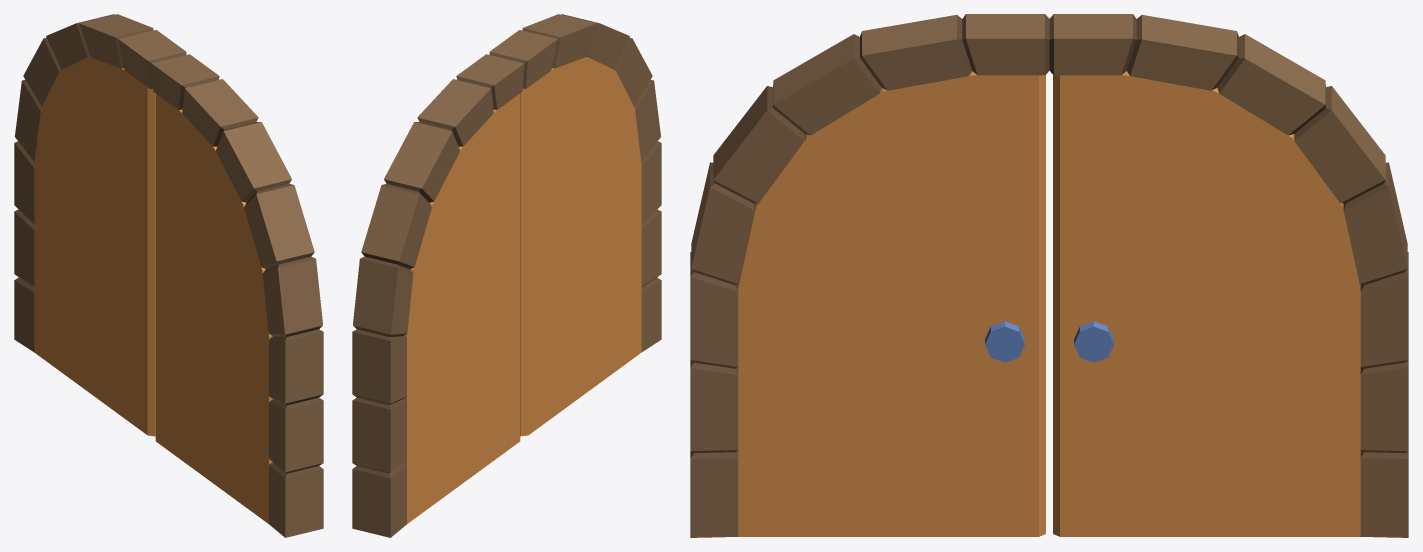
File: lvl2-kapi.fbx
3 renders of one model, left to right at view 1: azimuth 30°, elevation 25°; view 2: azimuth 150°, elevation 25°; view 3: azimuth 270°, elevation 25°, orthographic. The views are drawn at different scales.
Visible parts, largest first — view 1: lvl2.kapi, lvl2.sagkapi, lvl2.solkapi; view 2: lvl2.kapi, lvl2.solkapi, lvl2.sagkapi; view 3: lvl2.solkapi, lvl2.sagkapi, lvl2.kapi.
Part boxes in pixels (bbox=[...]): lvl2.kapi: bbox=[14, 14, 323, 537]; lvl2.sagkapi: bbox=[34, 56, 155, 436]; lvl2.solkapi: bbox=[155, 93, 272, 523]; lvl2.kapi: bbox=[352, 14, 661, 537]; lvl2.solkapi: bbox=[520, 56, 641, 436]; lvl2.sagkapi: bbox=[403, 93, 520, 523]; lvl2.solkapi: bbox=[738, 71, 1045, 536]; lvl2.sagkapi: bbox=[1053, 71, 1360, 536]; lvl2.kapi: bbox=[690, 14, 1408, 537].
Size of the model in its own units: 47.62 by 325 by 423.
